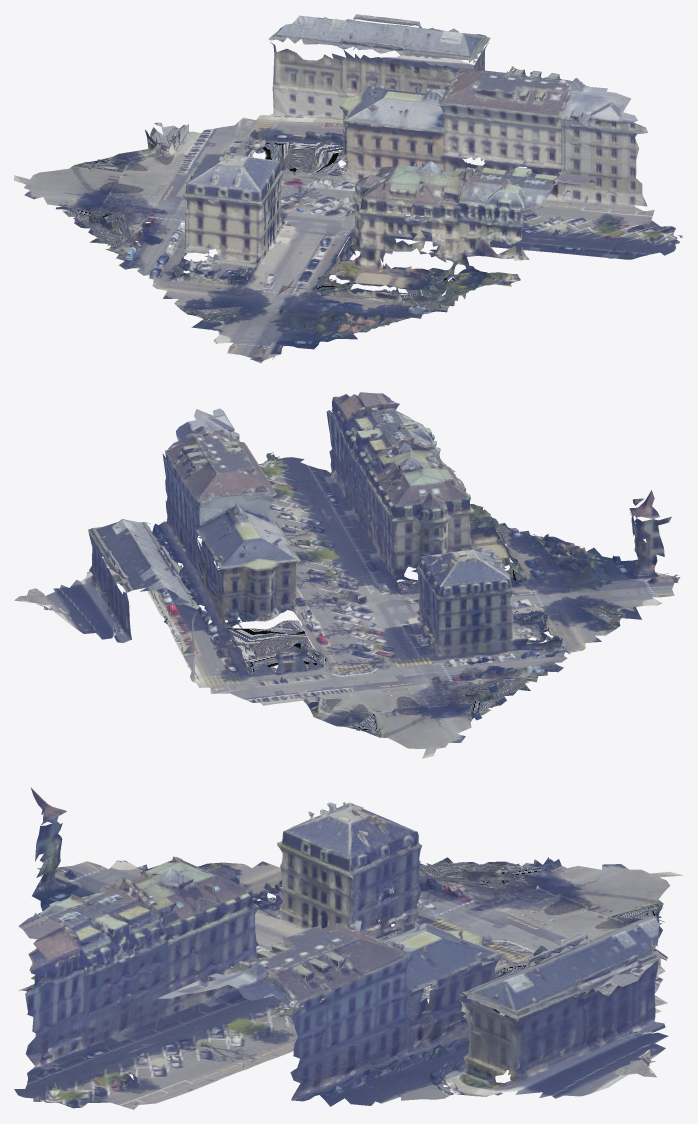
3 renders of one model, top to bottom at view 1: azimuth 30°, elevation 25°; view 2: azimuth 150°, elevation 25°; view 3: azimuth 270°, elevation 25°, orthographic. The views are drawn at different scales.
Size of the model in its own units: 109 by 27.64 by 109.
Materials: 1 (1 with a texture image).
